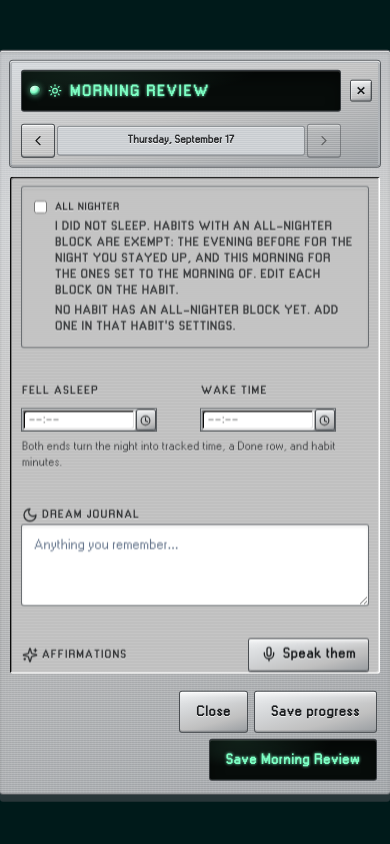
Test case: MorningReviewDialog › opens another day and shows that day's saved review
Step 1. Click the button named "Previous day" → (38, 141), box x1=22 y1=125 x2=54 y2=157
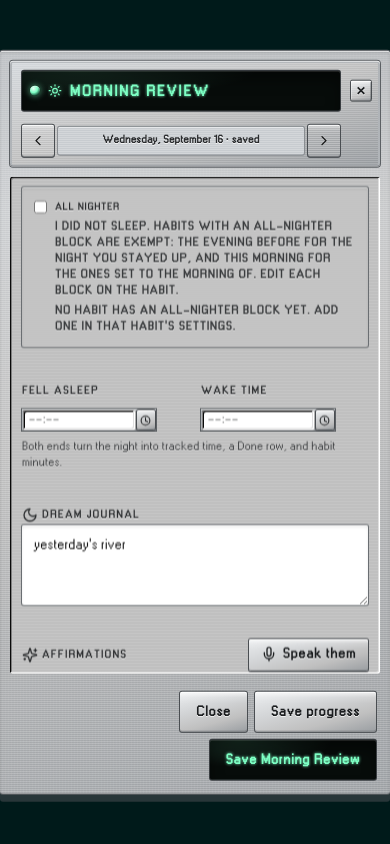
Expected: the button named "Next day" is enabled, x1=308 y1=125 x2=340 y2=157
Expected: the text "Wednesday, September 16 · saved" is shown, x1=58 y1=127 x2=304 y2=154
Expected: the text box showing "yesterday's river" is shown, x1=22 y1=525 x2=368 y2=605
